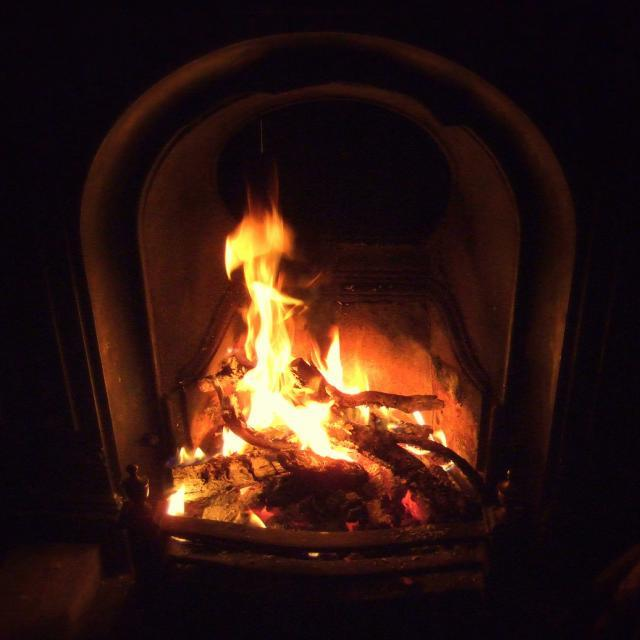Fire: (259, 295, 295, 433), (230, 209, 290, 272), (295, 403, 326, 447)
